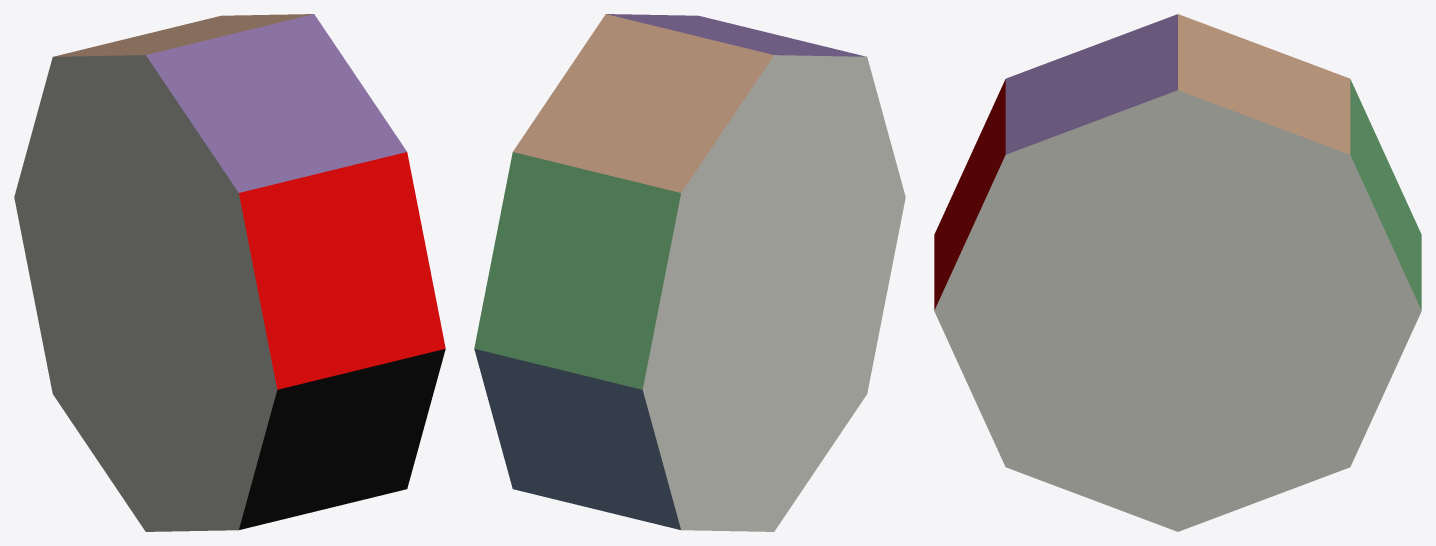
The model's file is winningsStatic.fbx.
3 renders of one model, left to right at view 1: azimuth 30°, elevation 25°; view 2: azimuth 150°, elevation 25°; view 3: azimuth 270°, elevation 25°, orthographic. The views are drawn at different scales.
Parts seen in each view (by area): view 1: pCylinder8; view 2: pCylinder8; view 3: pCylinder8.
Boxes of the visible parts, x1,y1,x2,y2 form: pCylinder8: (14, 14, 445, 531); pCylinder8: (474, 14, 905, 531); pCylinder8: (934, 14, 1421, 531).
Size of the model in its own units: 0.7393 by 2 by 2.
